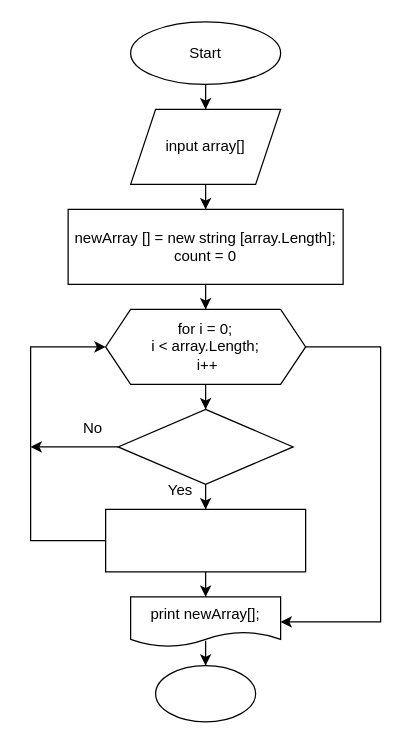
Image size: 413x744. Some labels were removed from this diagram. Here are the shapes that lost their labels. From the top down, the box of each, then its label:
(117, 408, 293, 484): array [i].Length <= 3
(104, 508, 306, 572): newArray [count] = array [i]; count ++;
(154, 664, 256, 722): end
